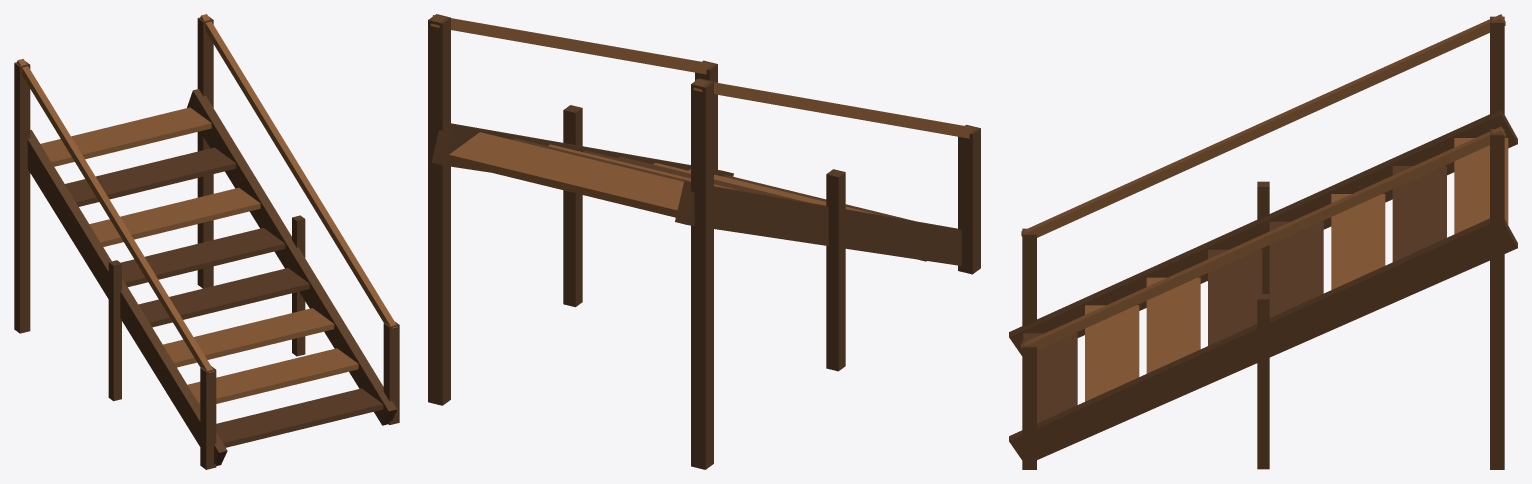
Rendered from mine_stairs_timber.glb.
3 renders of one model, left to right at view 1: azimuth 30°, elevation 25°; view 2: azimuth 150°, elevation 25°; view 3: azimuth 270°, elevation 25°, orthographic. The views are drawn at different scales.
Visible parts, largest first — view 1: mine_stairs_timber; view 2: mine_stairs_timber; view 3: mine_stairs_timber.
Part boxes in pixels (x1,y1,x2,y2): mine_stairs_timber: (14,14,399,469); mine_stairs_timber: (428,14,980,469); mine_stairs_timber: (1009,14,1517,469).
Size of what is drawn, in the model's own units: 2.28 by 3.04 by 4.13.
